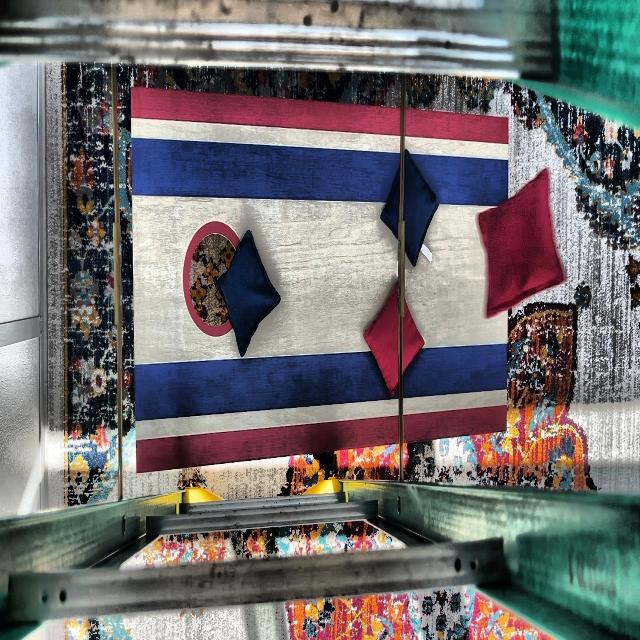blue-bean-bag: (215, 233, 281, 356), (379, 149, 439, 266)
board: (136, 117, 506, 430)
hole: (182, 221, 249, 337)
red-bean-bag: (477, 170, 562, 318), (362, 281, 425, 398)
